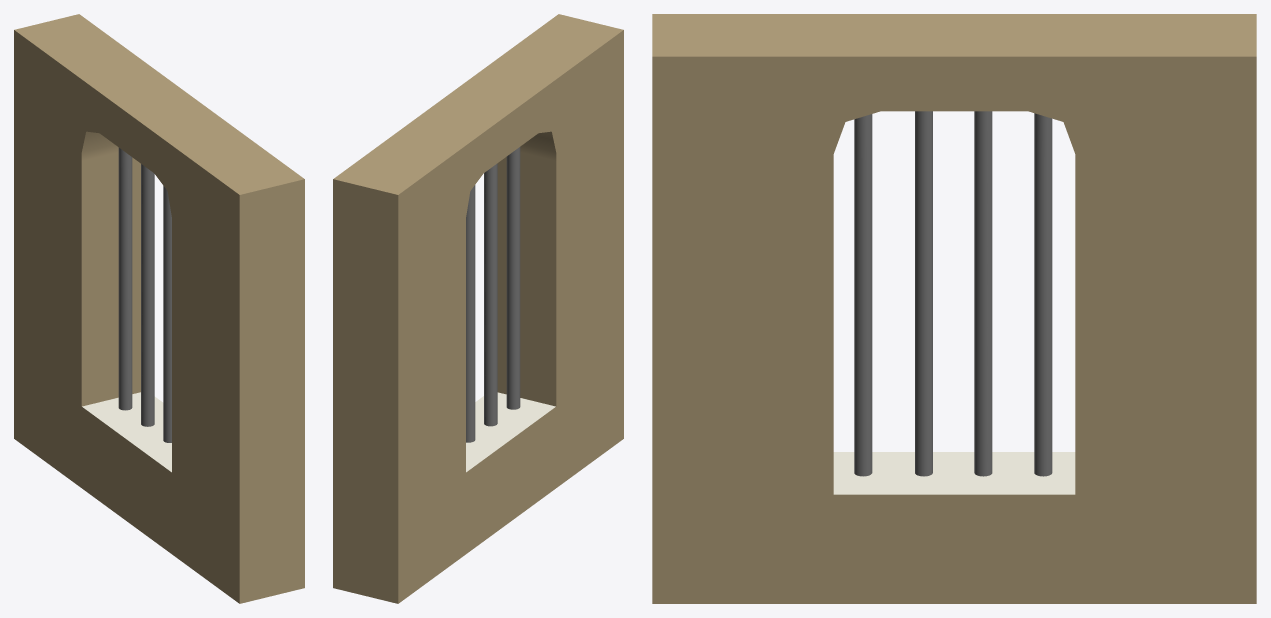
Rendered from Window.fbx.
3 views of the same model, side by side, from view 1: azimuth 30°, elevation 25°; view 2: azimuth 150°, elevation 25°; view 3: azimuth 270°, elevation 25° (orthographic). The views are drawn at different scales.
Parts seen in each view (by area): view 1: Box001; view 2: Box001; view 3: Box001.
Part boxes in pixels (x1,y1,x2,y2): Box001: (14, 14, 304, 603); Box001: (333, 14, 623, 603); Box001: (652, 14, 1256, 603).
Bounding box in the file's own units: 50 × 300 × 300.
